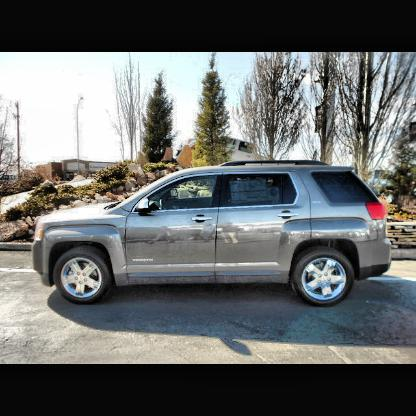GMC Terrain SUV 2012: (33, 161, 393, 307)
